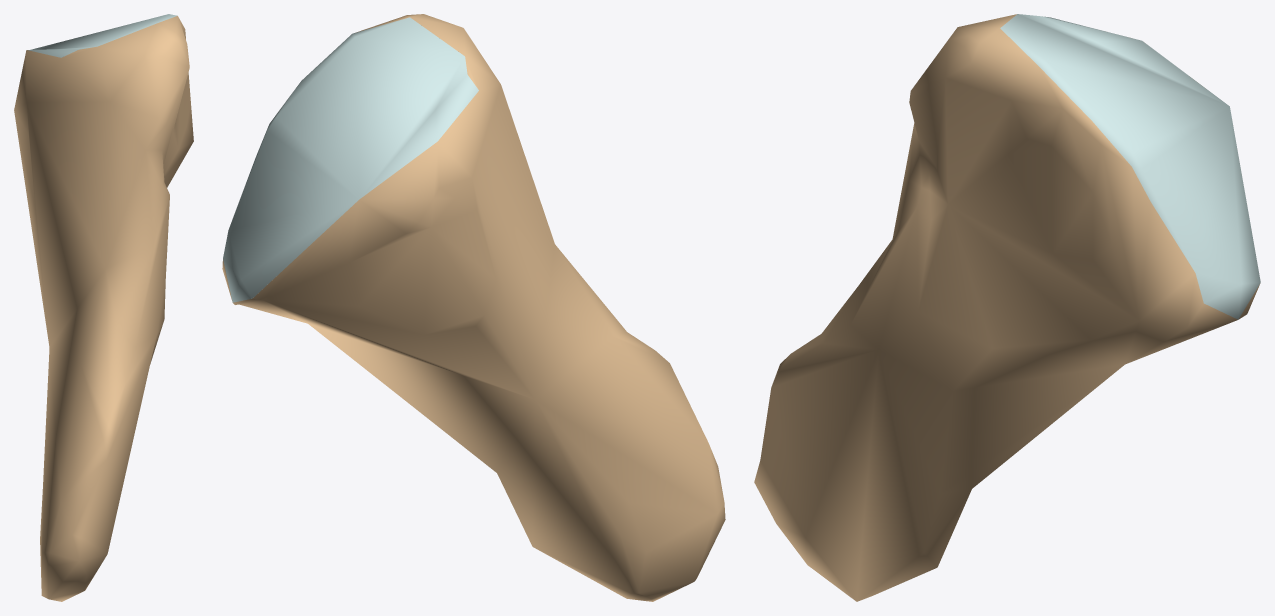
File: Distal_phalanx_first_finger_right.glb
The picture shows the model from 3 angles, left to right: view 1: azimuth 30°, elevation 25°; view 2: azimuth 150°, elevation 25°; view 3: azimuth 270°, elevation 25°; orthographic projection. The views are drawn at different scales.
Visible parts, largest first — view 1: Distal_phalanx_of_1st_finger.r_Generated_Mesh_From_X3D.735; view 2: Distal_phalanx_of_1st_finger.r_Generated_Mesh_From_X3D.735; view 3: Distal_phalanx_of_1st_finger.r_Generated_Mesh_From_X3D.735.
Part boxes in pixels (x1,y1,x2,y2): Distal_phalanx_of_1st_finger.r_Generated_Mesh_From_X3D.735: [14, 14, 193, 601]; Distal_phalanx_of_1st_finger.r_Generated_Mesh_From_X3D.735: [222, 14, 725, 601]; Distal_phalanx_of_1st_finger.r_Generated_Mesh_From_X3D.735: [754, 14, 1260, 601].
Bounding box in the file's own units: 0.014 × 0.0241 × 0.0168.
